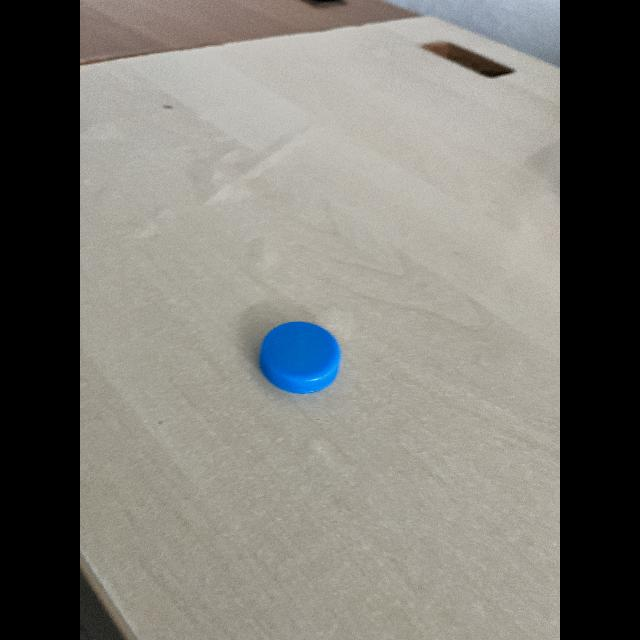plastic_bottle_cap: (246, 311, 354, 403)
